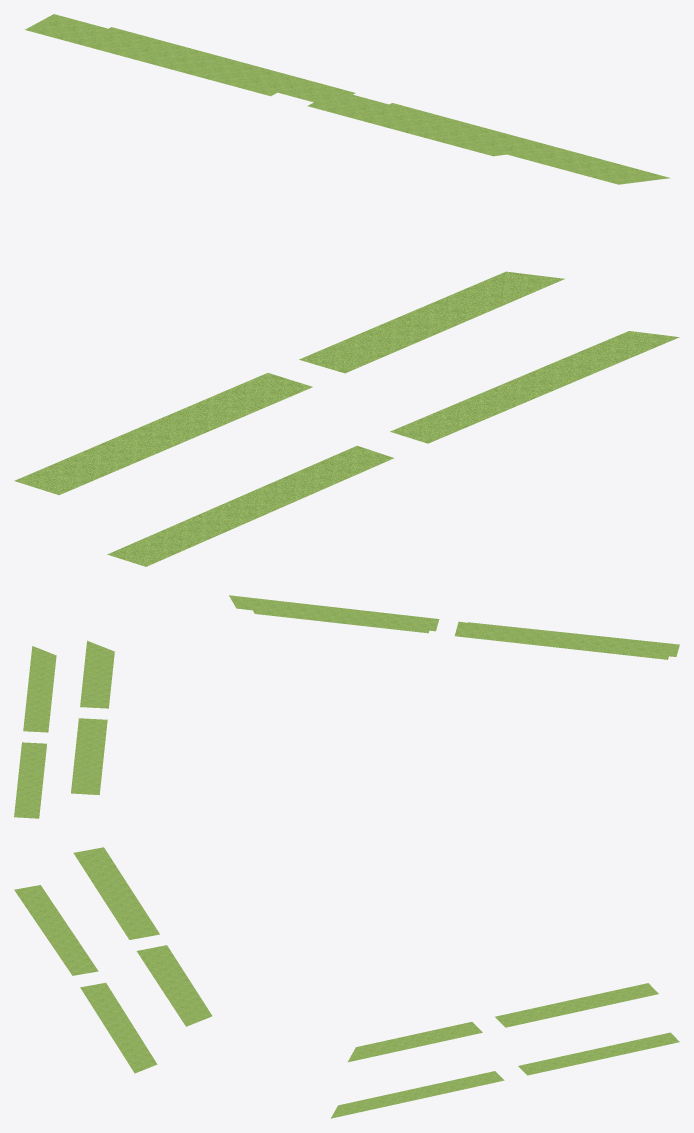
The model's file is kd_stage_1366d7_1_2.glb.
The picture shows the model from 3 angles, top to bottom: view 1: azimuth 30°, elevation 25°; view 2: azimuth 150°, elevation 25°; view 3: azimuth 270°, elevation 25°; orthographic projection. The views are drawn at different scales.
Parts seen in each view (by area): view 1: kd_stage_1366d7_1_2; view 2: kd_stage_1366d7_1_2; view 3: kd_stage_1366d7_1_2.
Part boxes in pixels (bbox=[...]): kd_stage_1366d7_1_2: bbox=[14, 14, 679, 566]; kd_stage_1366d7_1_2: bbox=[14, 595, 679, 818]; kd_stage_1366d7_1_2: bbox=[14, 847, 679, 1118].
Bounding box in the file's own units: 38.26 × 1.92 × 43.89.
1 material, 1 textured.
